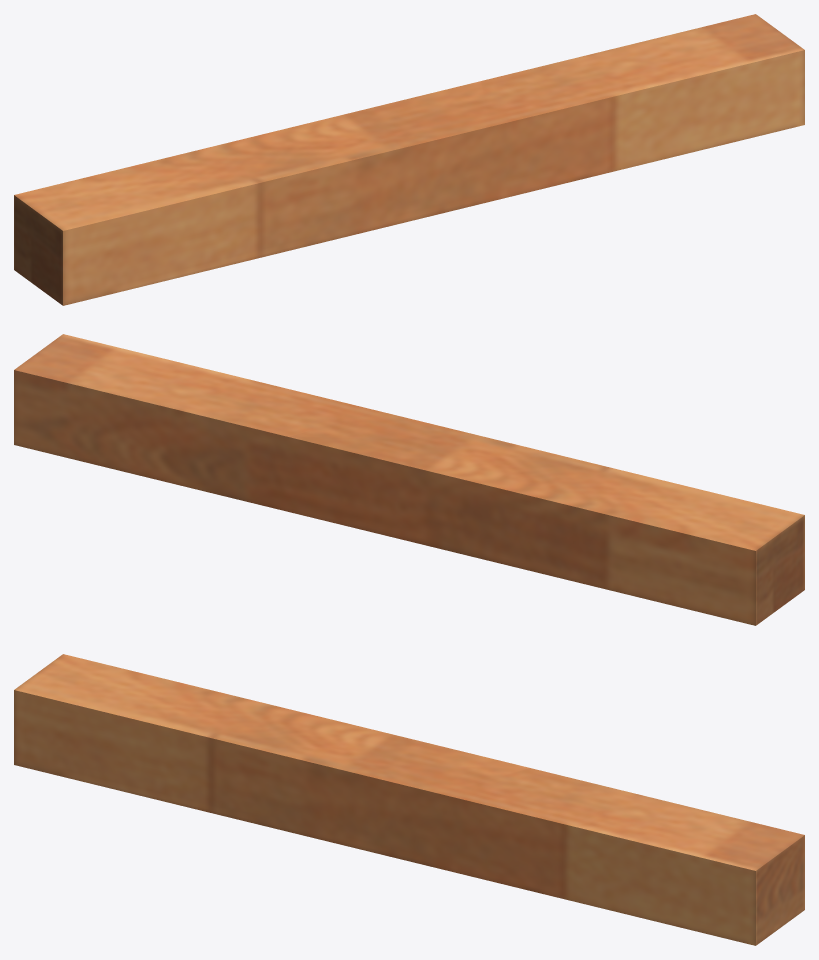
The model's file is 61_ELM_Woodstick02.fbx.
3 views of the same model, one above another, from view 1: azimuth 30°, elevation 25°; view 2: azimuth 150°, elevation 25°; view 3: azimuth 330°, elevation 25° (orthographic).
Parts seen in each view (by area): view 1: WoodStick02_part2, WoodStick02_part6, WoodStick02_part1, WoodStick02_part5, WoodStick02_part7, WoodStick02_part8, WoodStick02_part4, WoodStick02_part3; view 2: WoodStick02_part2, WoodStick02_part6, WoodStick02_part4, WoodStick02_part7, WoodStick02_part1, WoodStick02_part8, WoodStick02_part5, WoodStick02_part3; view 3: WoodStick02_part2, WoodStick02_part6, WoodStick02_part1, WoodStick02_part5, WoodStick02_part7, WoodStick02_part8, WoodStick02_part4, WoodStick02_part3.
Boxes of the visible parts, left/top/right/bottom form: WoodStick02_part2: left=14, top=156, right=293, bottom=305; WoodStick02_part6: left=481, top=35, right=704, bottom=155; WoodStick02_part1: left=670, top=14, right=804, bottom=149; WoodStick02_part5: left=369, top=81, right=581, bottom=181; WoodStick02_part7: left=173, top=136, right=373, bottom=255; WoodStick02_part8: left=388, top=142, right=574, bottom=223; WoodStick02_part4: left=256, top=108, right=400, bottom=229; WoodStick02_part3: left=508, top=141, right=676, bottom=197; WoodStick02_part2: left=574, top=459, right=804, bottom=625; WoodStick02_part6: left=99, top=358, right=377, bottom=465; WoodStick02_part4: left=380, top=437, right=520, bottom=560; WoodStick02_part7: left=488, top=445, right=620, bottom=592; WoodStick02_part1: left=14, top=334, right=162, bottom=466; WoodStick02_part8: left=189, top=447, right=394, bottom=533; WoodStick02_part5: left=224, top=411, right=487, bottom=483; WoodStick02_part3: left=102, top=452, right=250, bottom=502; WoodStick02_part2: left=14, top=654, right=244, bottom=815; WoodStick02_part6: left=441, top=768, right=718, bottom=920; WoodStick02_part1: left=652, top=814, right=804, bottom=945; WoodStick02_part5: left=331, top=740, right=531, bottom=852; WoodStick02_part7: left=221, top=693, right=324, bottom=840; WoodStick02_part8: left=339, top=800, right=525, bottom=873; WoodStick02_part4: left=298, top=713, right=417, bottom=847; WoodStick02_part3: left=459, top=851, right=627, bottom=914.
Bounding box in the file's own units: 2.81 × 0.2711 × 0.3222.
